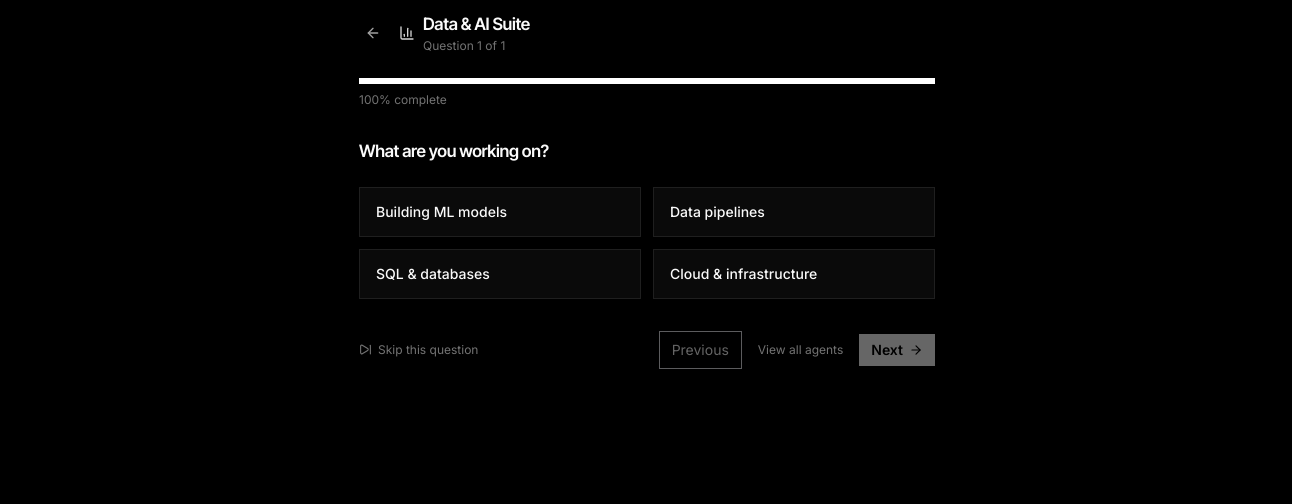
Scenario: SuiteWizard › Suite with single question › shows results after answering the only question
The image size is (1292, 504).
Click the button "Building ML models".
click(500, 212)  # box [359,187,641,237]
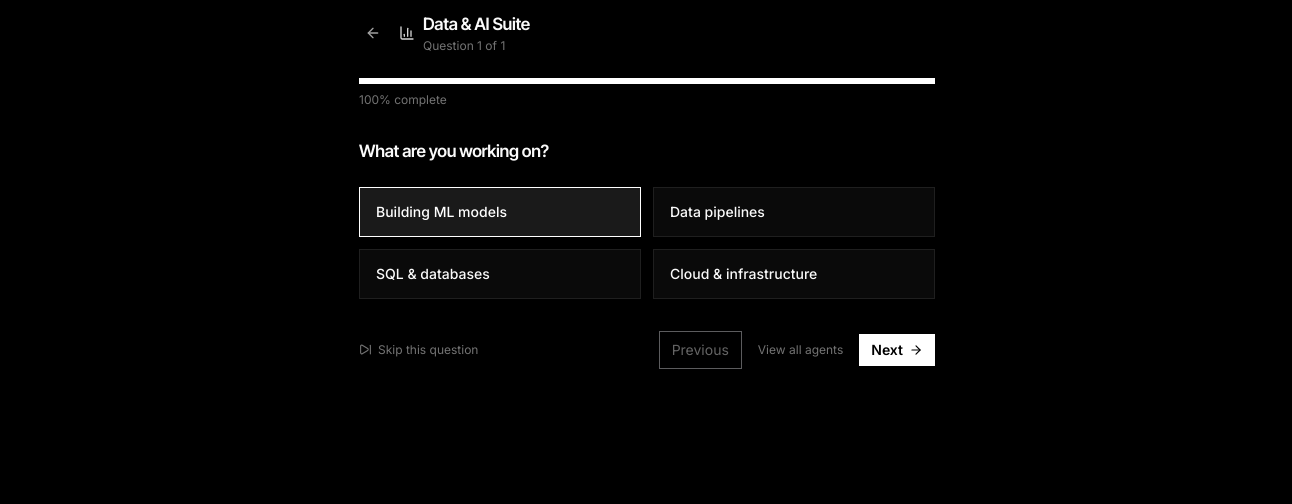
Click the button "Next".
click(897, 350)  # box [859,334,935,366]
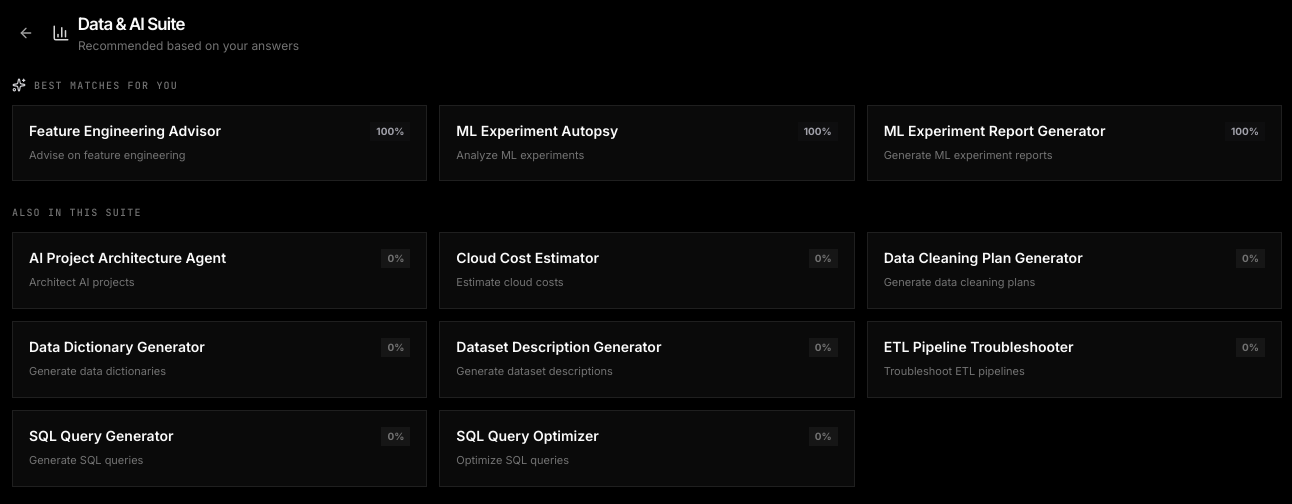
Now the text "Best matches for you" is shown, box [34,78,178,92]
